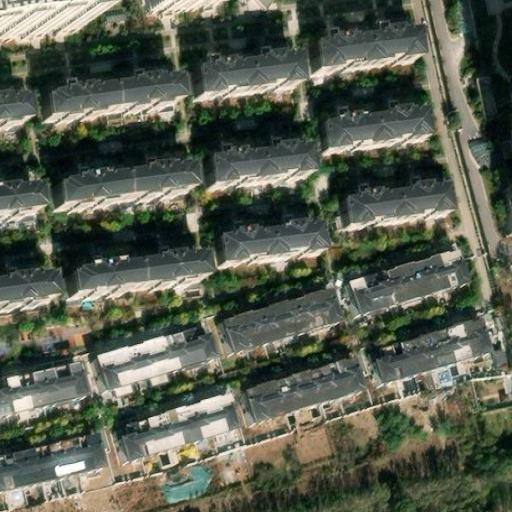building: (371, 313, 494, 384), (349, 246, 472, 316), (246, 351, 367, 422), (224, 284, 345, 354), (99, 321, 217, 389), (121, 389, 239, 456), (64, 252, 208, 298), (44, 168, 188, 214), (36, 77, 180, 123), (311, 27, 423, 78), (318, 110, 429, 156), (218, 224, 328, 270), (206, 144, 316, 190), (193, 54, 303, 100), (338, 188, 450, 233), (0, 270, 58, 314), (0, 182, 43, 222), (475, 72, 502, 118), (0, 92, 31, 131)
